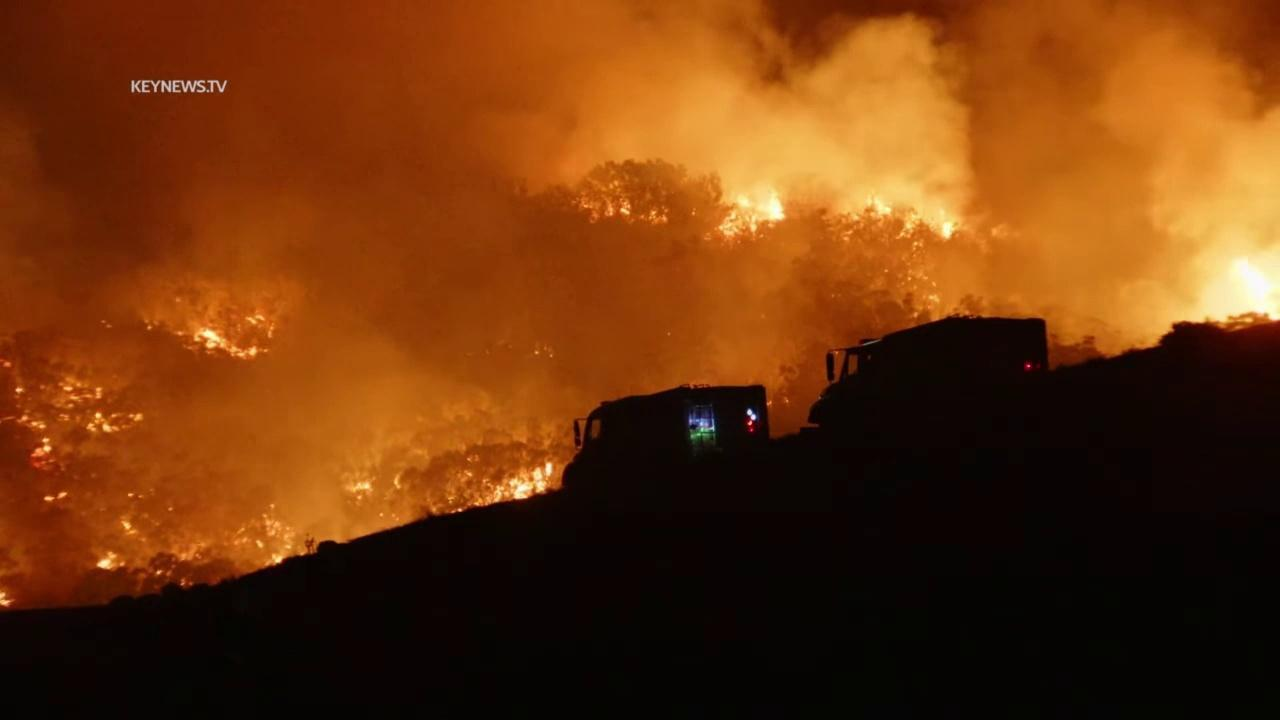fire: (1193, 253, 1280, 336), (173, 303, 280, 362), (54, 375, 146, 435), (466, 456, 556, 511), (230, 502, 297, 568), (714, 184, 789, 241), (0, 407, 54, 471), (603, 203, 671, 226), (94, 550, 130, 576), (864, 192, 894, 223), (116, 513, 142, 537), (349, 478, 375, 501), (938, 218, 957, 243), (0, 589, 19, 610)
smoke: (0, 0, 1280, 616)
